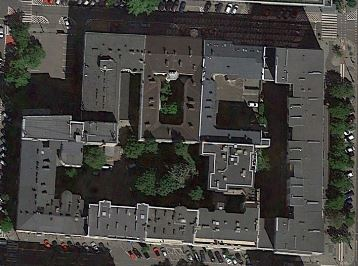block of flats: (12, 30, 328, 256)
